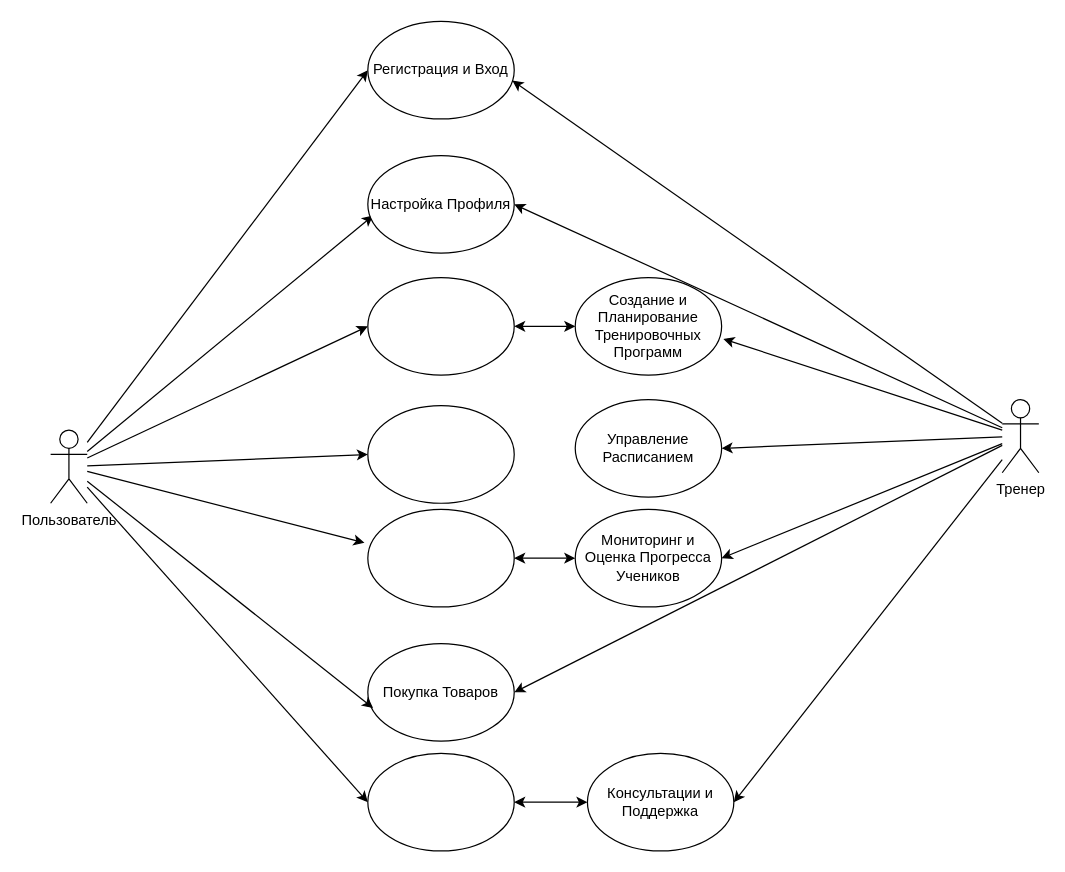
Image size: 1065x872. Some labels were removed from this diagram. The box of each missing label's shape, as (x1, y1, x2, y2) in pixels:
Отслеживание Прогресса: (367, 508, 514, 607)
Получение Обратной Связи: (367, 752, 514, 851)
Просмотр и Выбор Тренировок: (367, 276, 514, 375)
Участие в Вызовах и Соревнованиях: (367, 404, 514, 503)
